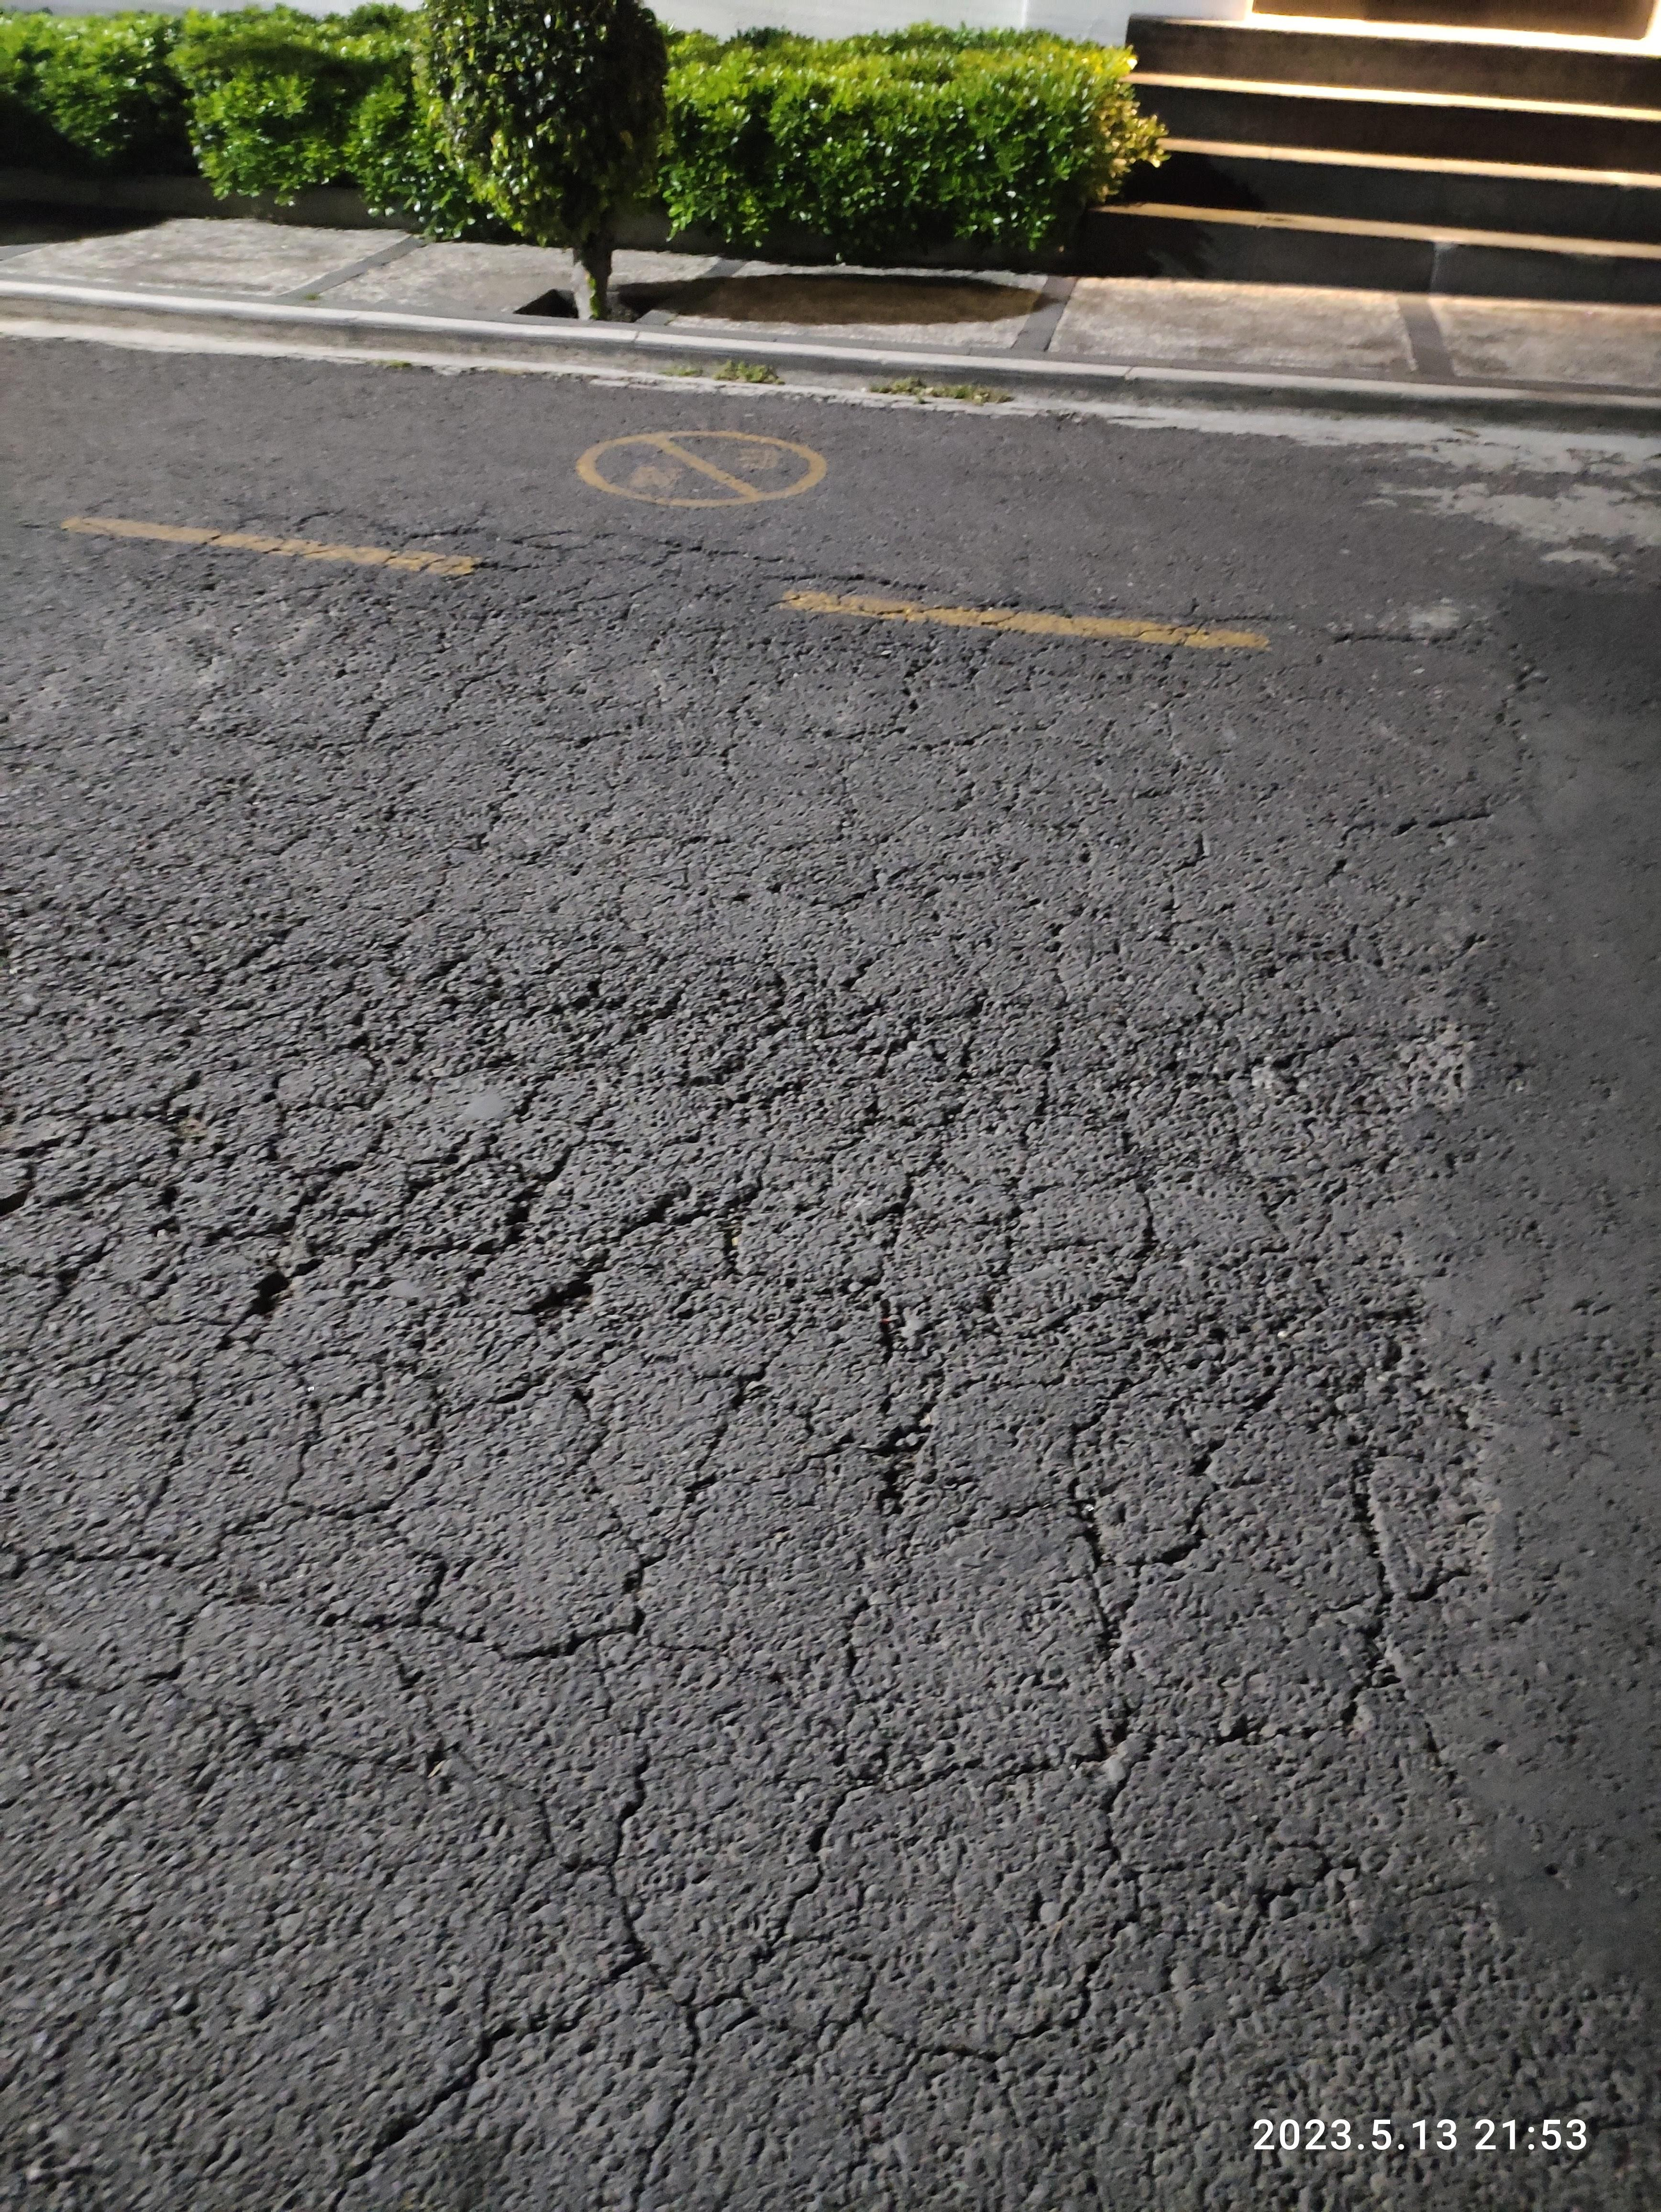alligator-crack: (0, 858, 1417, 1469), (38, 1287, 1436, 1786), (82, 1656, 1398, 1957)
crack: (145, 466, 1328, 719), (215, 1954, 1275, 2104)
